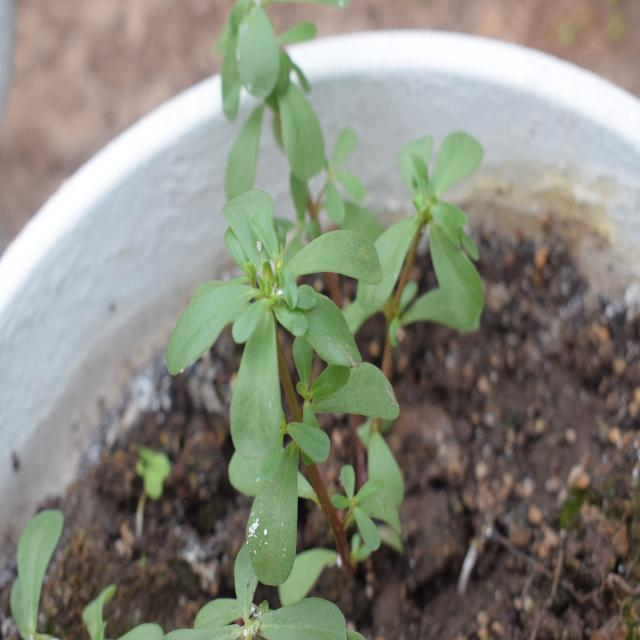purslane: (147, 15, 477, 577)
